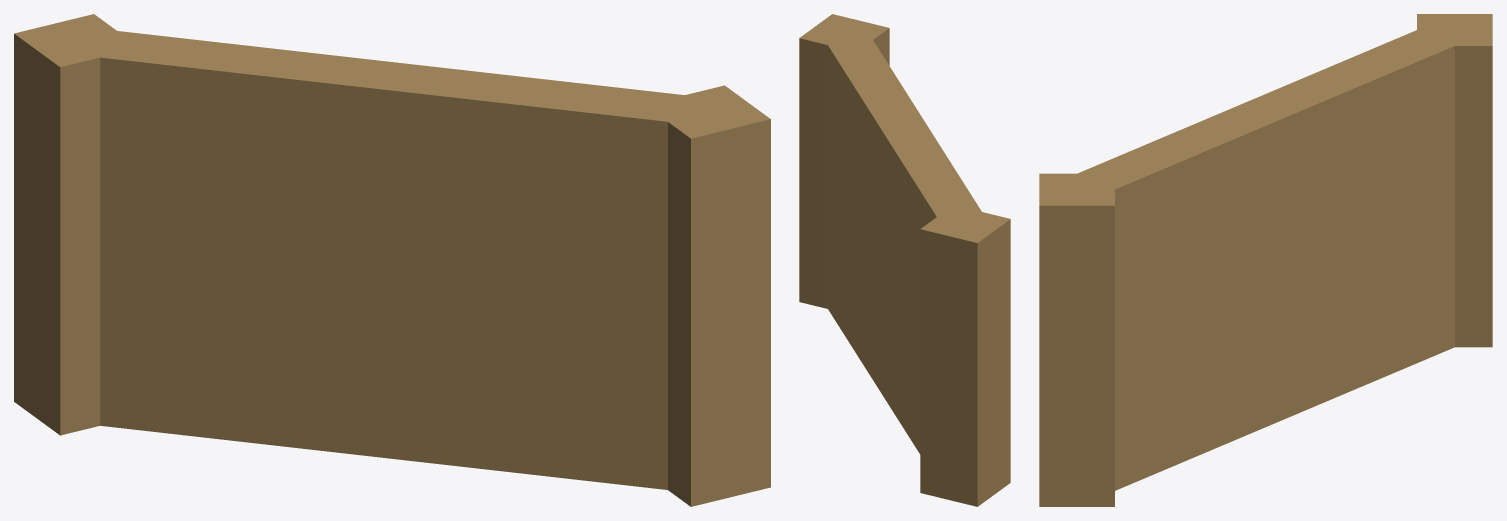
File: wood_corner_01.glb
3 views of the same model, side by side, from view 1: azimuth 30°, elevation 25°; view 2: azimuth 150°, elevation 25°; view 3: azimuth 270°, elevation 25° (orthographic). The views are drawn at different scales.
Parts seen in each view (by area): view 1: Mesh1 Wood_Corner Model; view 2: Mesh1 Wood_Corner Model; view 3: Mesh1 Wood_Corner Model.
Part boxes in pixels (bbox=[...]): Mesh1 Wood_Corner Model: bbox=[14, 14, 770, 506]; Mesh1 Wood_Corner Model: bbox=[799, 14, 1010, 506]; Mesh1 Wood_Corner Model: bbox=[1039, 14, 1492, 506].
Bounding box in the file's own units: 3 × 2.2 × 3.
